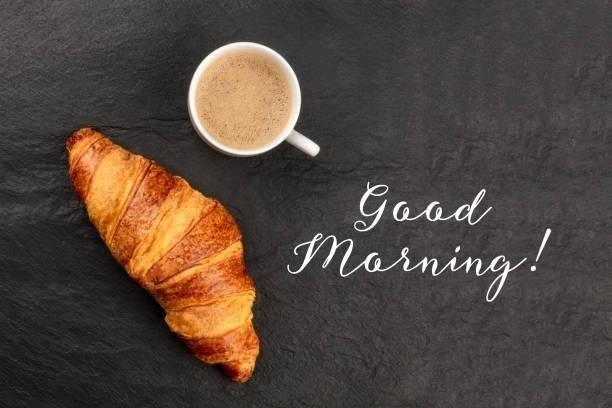cup-handle: (186, 40, 321, 162)
